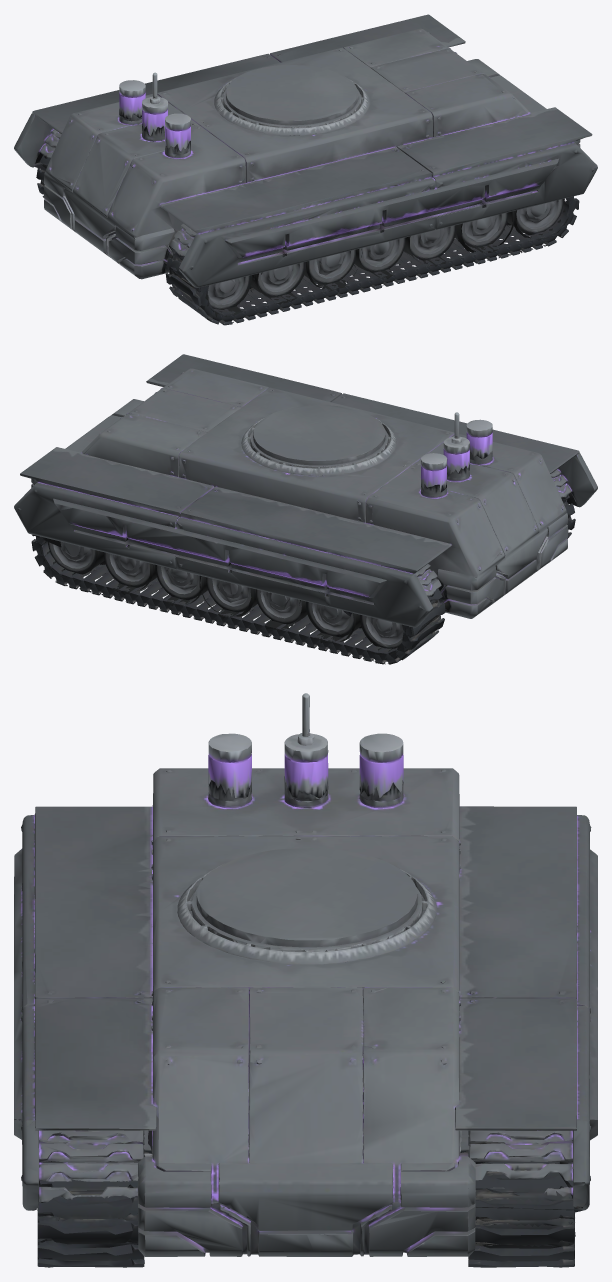
File: chassis-titan-1-full.glb
3 views of the same model, one above another, from view 1: azimuth 30°, elevation 25°; view 2: azimuth 150°, elevation 25°; view 3: azimuth 270°, elevation 25° (orthographic). The views are drawn at different scales.
Visible parts, largest first — view 1: chassis-titan-1-full; view 2: chassis-titan-1-full; view 3: chassis-titan-1-full.
Boxes of the visible parts, <box> form: chassis-titan-1-full: <box>14,14,597,325</box>; chassis-titan-1-full: <box>14,354,597,664</box>; chassis-titan-1-full: <box>14,693,597,1267</box>.
Size of the model in its own units: 2.9 by 1.2 by 1.99.
Materials: 1 (1 with a texture image).
